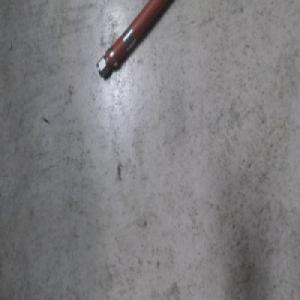Hose: (96, 0, 174, 81)
